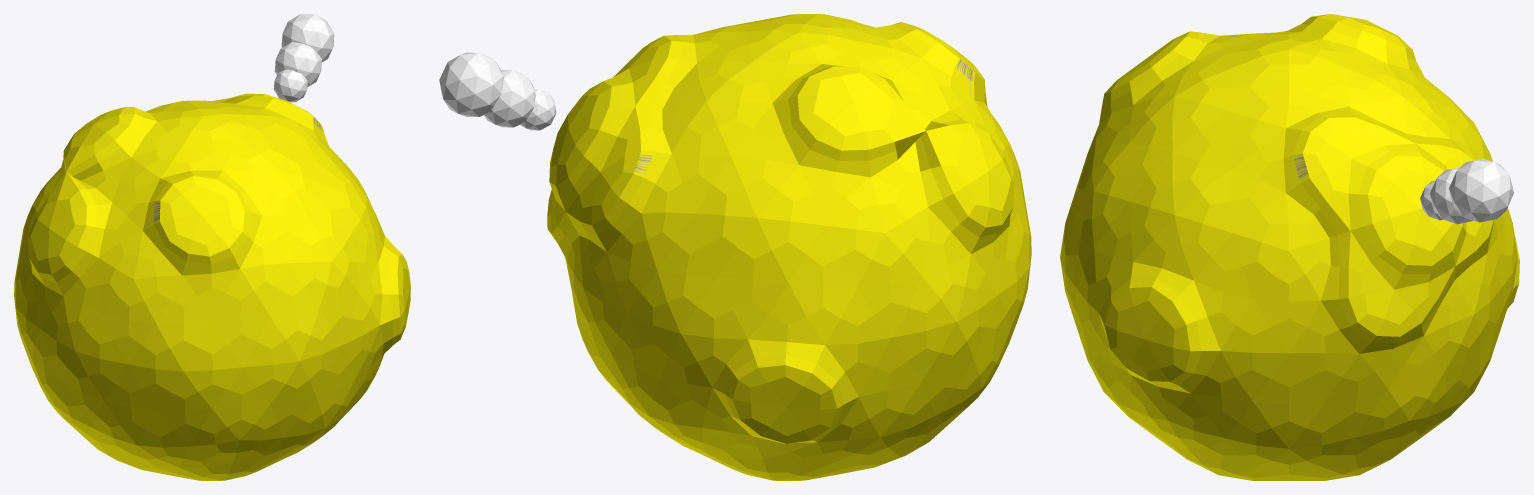
3 views of the same model, side by side, from view 1: azimuth 30°, elevation 25°; view 2: azimuth 150°, elevation 25°; view 3: azimuth 270°, elevation 25° (orthographic). The views are drawn at different scales.
Visible parts, largest first — view 1: 아이코스피어, 아이코스피어.001, 아이코스피어.002, 아이코스피어.003; view 2: 아이코스피어, 아이코스피어.001, 아이코스피어.002, 아이코스피어.003; view 3: 아이코스피어, 아이코스피어.001, 아이코스피어.002.
Part boxes in pixels (x1=…): 아이코스피어: x1=14, y1=93, x2=410, y2=480; 아이코스피어.001: x1=281, y1=14, x2=334, y2=62; 아이코스피어.002: x1=274, y1=42, x2=321, y2=87; 아이코스피어.003: x1=273, y1=69, x2=307, y2=102; 아이코스피어: x1=547, y1=14, x2=1031, y2=480; 아이코스피어.001: x1=439, y1=52, x2=503, y2=116; 아이코스피어.002: x1=484, y1=70, x2=535, y2=127; 아이코스피어.003: x1=520, y1=89, x2=556, y2=130; 아이코스피어: x1=1060, y1=14, x2=1519, y2=480; 아이코스피어.001: x1=1449, y1=158, x2=1513, y2=222; 아이코스피어.002: x1=1430, y1=167, x2=1472, y2=224.
Bounding box in the file's own units: 2.17 × 1.93 × 1.93.
Materials: 4 (4 with a texture image).
